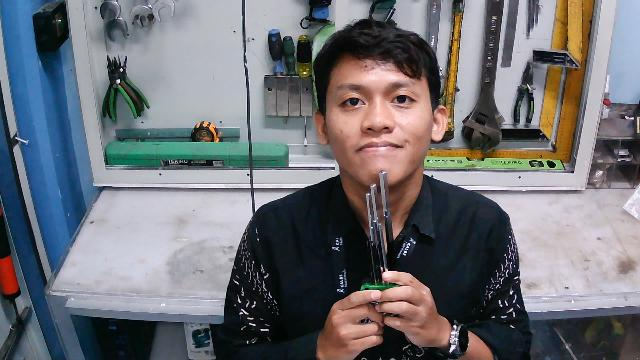kunci_l: (359, 169, 403, 327)
